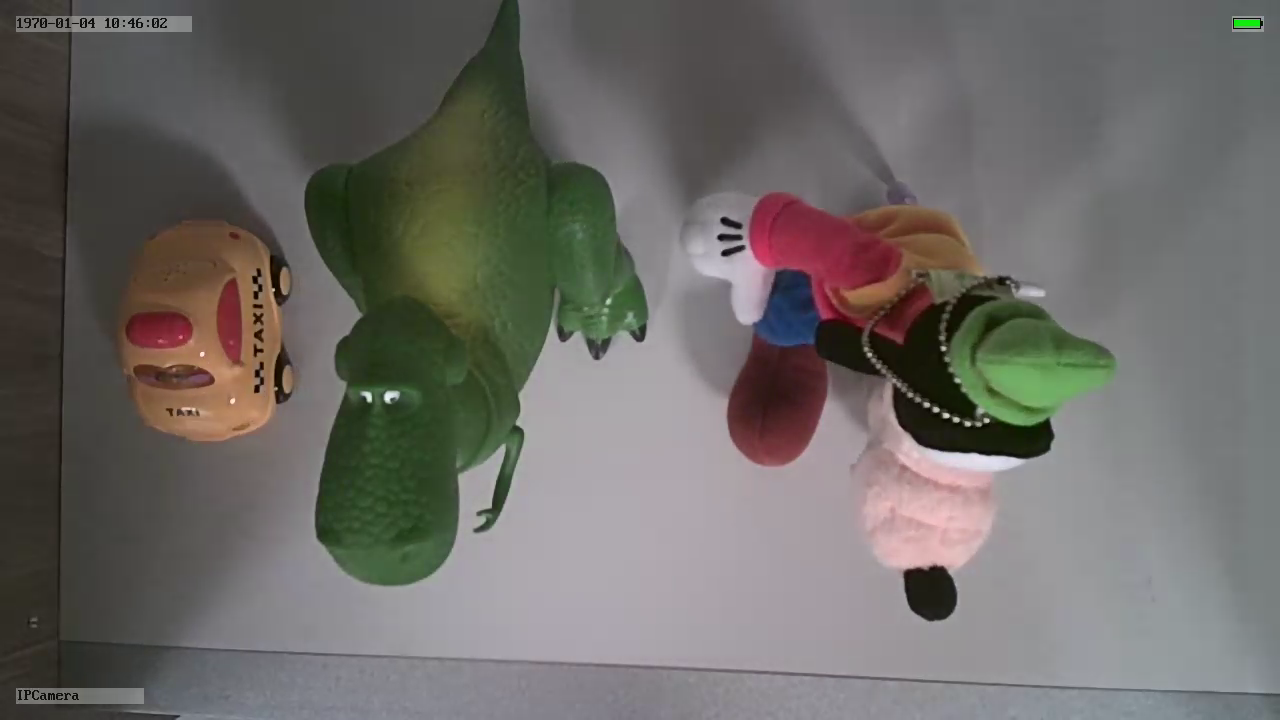goofy: (664, 179, 1122, 633)
